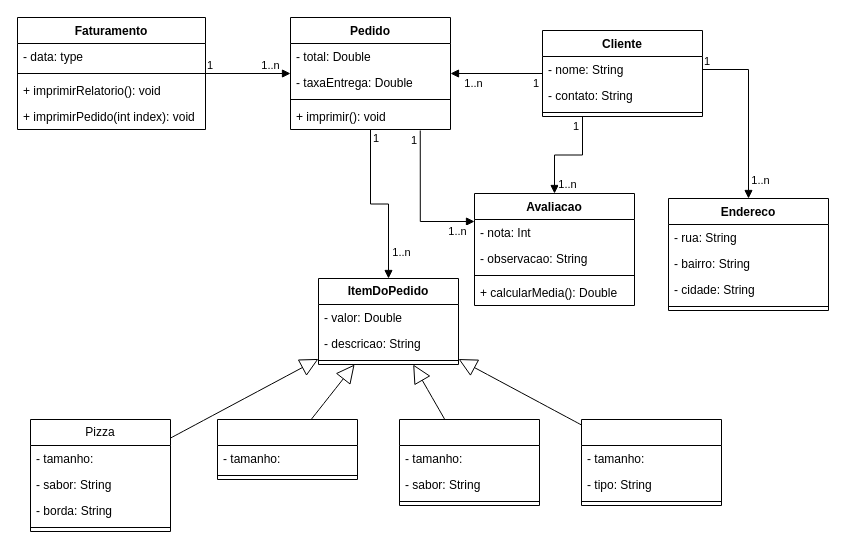
This 846x549 diagram has some shape labels left out. Here are the shapes that lost their labels. From the top down, the box of each, then its label:
(216, 418, 358, 480): Batatinha
(398, 418, 540, 506): Refrigerante
(580, 418, 722, 506): Cerveja
